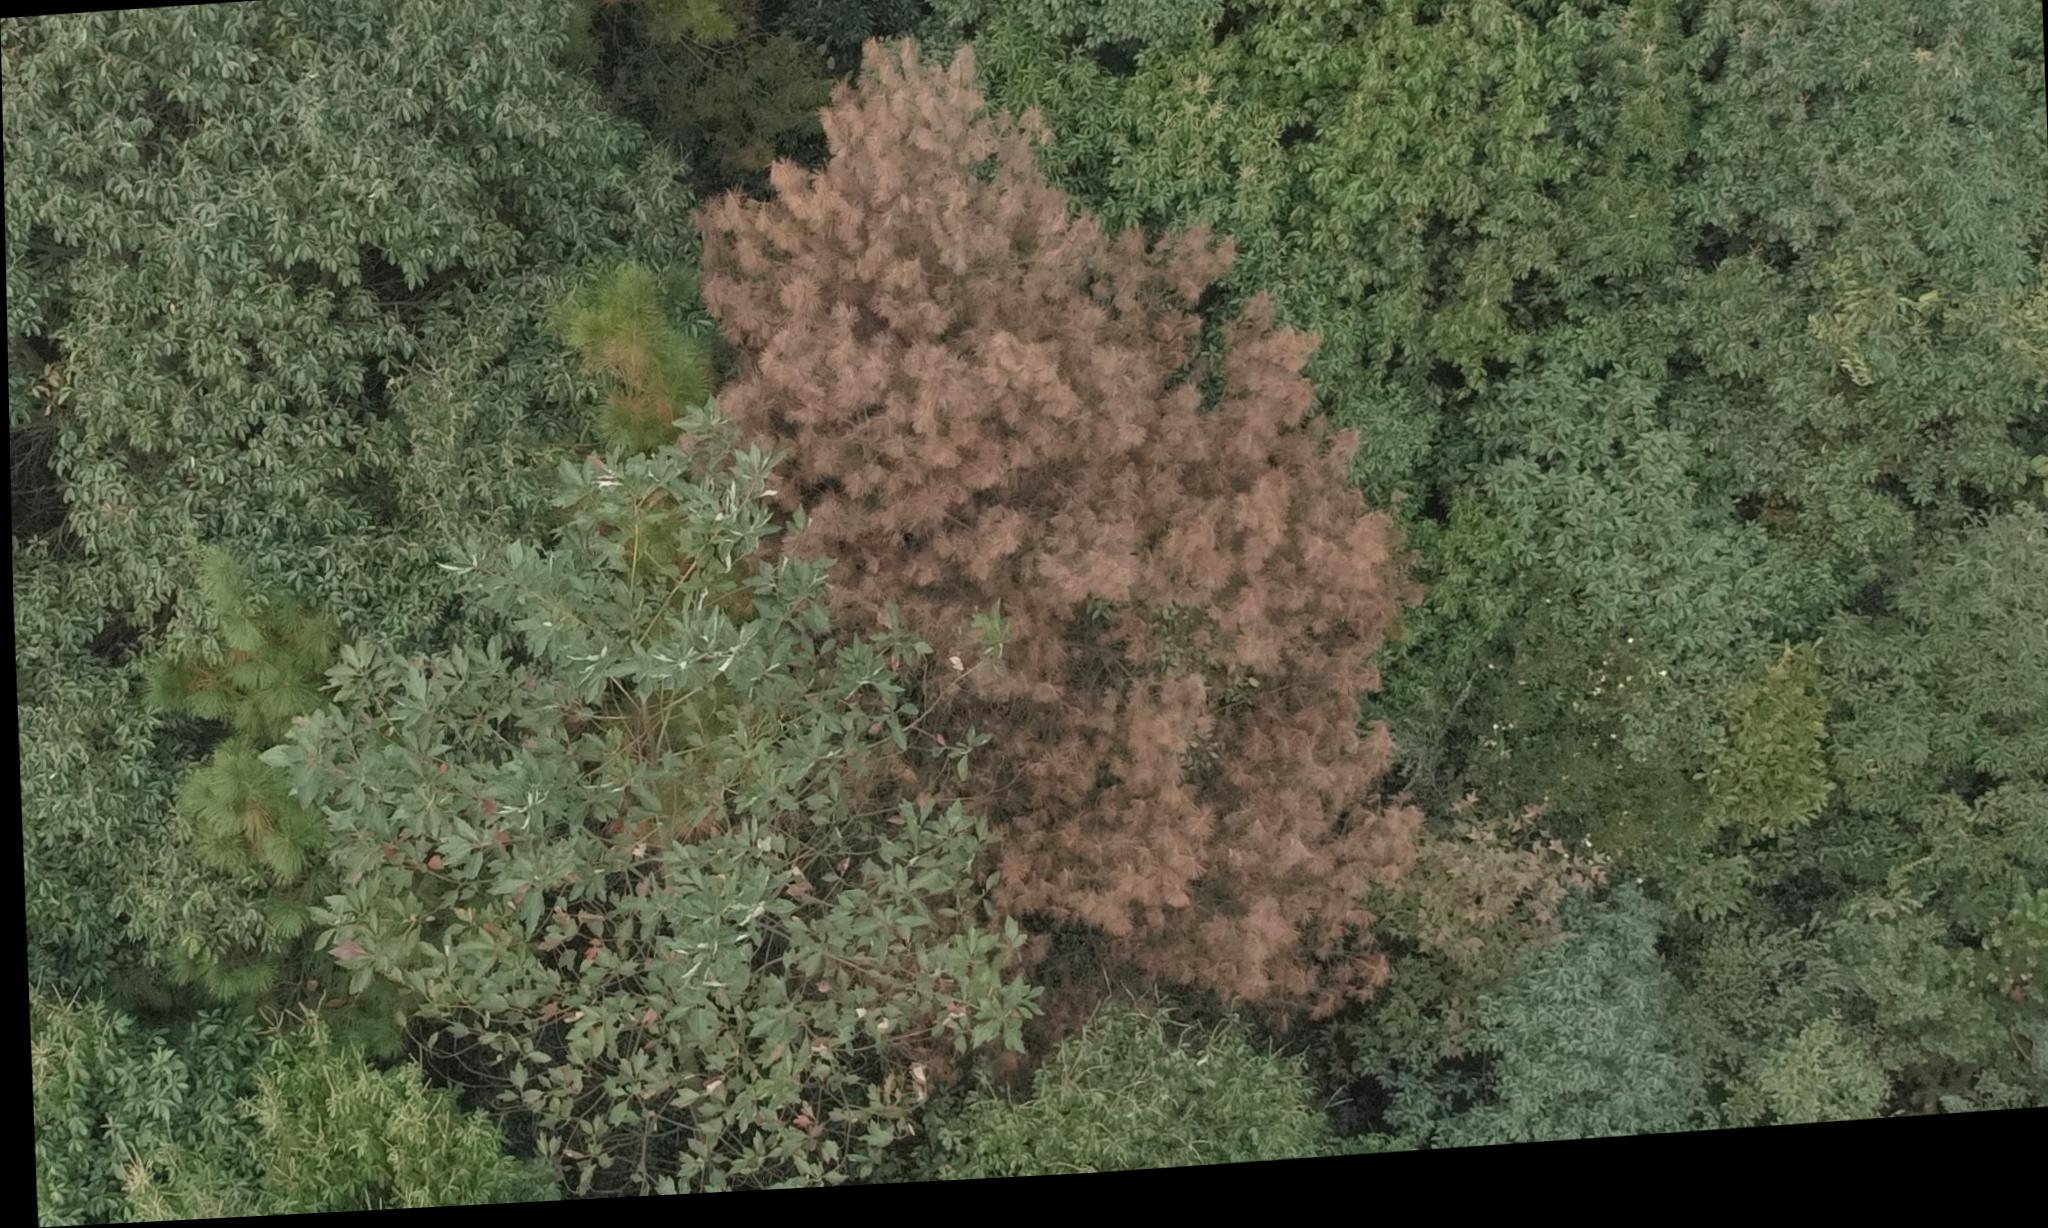heavy: (727, 25, 1438, 1060)
light: (557, 260, 696, 465)
